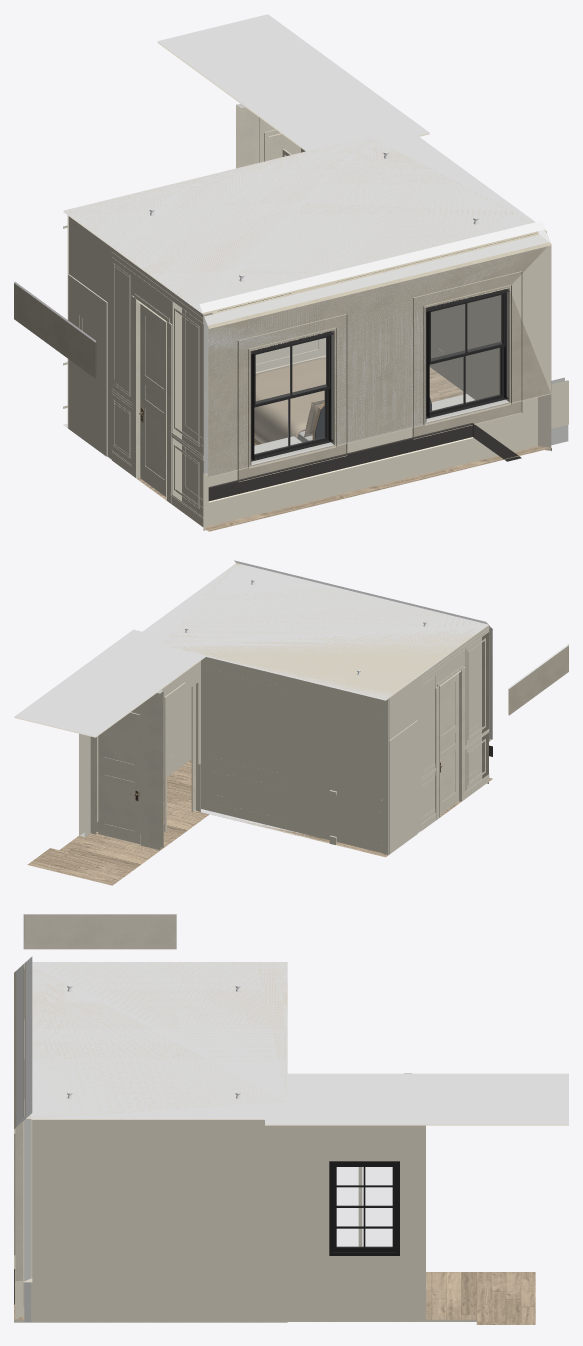
File: blue-bedroom-dcb409ba1715.glb
3 views of the same model, one above another, from view 1: azimuth 30°, elevation 25°; view 2: azimuth 150°, elevation 25°; view 3: azimuth 270°, elevation 25° (orthographic). The views are drawn at different scales.
Parts seen in each view (by area): view 1: blue-bedroom-9d91b47435c6fb33, blue-bedroom-bddaf205afbd60c0, blue-bedroom-e8793759323e04f0, blue-bedroom-look-9d91b47435c6fb33, blue-bedroom-df3e1f21720b0c39, blue-bedroom-2f7d8eff34a2c180, blue-bedroom-ed5fdcd3ee9c0dd5, blue-bedroom-3c3de67e8dd93323, blue-bedroom-649b3532e9781727, blue-bedroom-64753ebcb3824a84, blue-bedroom-746250f96522f643, blue-bedroom-ead09a0b3f9e3bd9 (+16 smaller); view 2: blue-bedroom-6e269356ae8bfd70, blue-bedroom-9d91b47435c6fb33, blue-bedroom-e8793759323e04f0, blue-bedroom-look-9d91b47435c6fb33, blue-bedroom-ed5fdcd3ee9c0dd5, blue-bedroom-look-2575515a05775d9e, blue-bedroom-look-dcc0092055abeaa8, blue-bedroom-look-eb02897c2e79e2b1, blue-bedroom-ead09a0b3f9e3bd9, blue-bedroom-3e649b0d114ae387, blue-bedroom-bf159a19de53e60e, blue-bedroom-746250f96522f643 (+13 smaller); view 3: blue-bedroom-746250f96522f643, blue-bedroom-9d91b47435c6fb33, blue-bedroom-look-746250f96522f643, blue-bedroom-e8793759323e04f0, blue-bedroom-look-9d91b47435c6fb33, blue-bedroom-look-5035c6783c6505b3, blue-bedroom-look-2575515a05775d9e, blue-bedroom-look-3a4d9d62ecd7be1c, blue-bedroom-0a6e1f8a567f4490, blue-bedroom-64753ebcb3824a84, blue-bedroom-2575515a05775d9e, blue-bedroom-49f6d498b24b79cd.
Boxes of the visible parts, x1,y1,x2,y2 form: blue-bedroom-9d91b47435c6fb33: [63, 127, 538, 314]; blue-bedroom-bddaf205afbd60c0: [207, 242, 550, 476]; blue-bedroom-e8793759323e04f0: [64, 138, 545, 312]; blue-bedroom-look-9d91b47435c6fb33: [157, 14, 429, 151]; blue-bedroom-df3e1f21720b0c39: [208, 243, 551, 475]; blue-bedroom-2f7d8eff34a2c180: [203, 393, 551, 530]; blue-bedroom-ed5fdcd3ee9c0dd5: [67, 215, 181, 500]; blue-bedroom-3c3de67e8dd93323: [251, 330, 333, 461]; blue-bedroom-649b3532e9781727: [426, 289, 509, 418]; blue-bedroom-64753ebcb3824a84: [204, 234, 548, 476]; blue-bedroom-746250f96522f643: [398, 234, 532, 399]; blue-bedroom-ead09a0b3f9e3bd9: [68, 274, 107, 456]; blue-bedroom-6e269356ae8bfd70: [200, 656, 389, 855]; blue-bedroom-9d91b47435c6fb33: [134, 564, 488, 700]; blue-bedroom-e8793759323e04f0: [161, 560, 488, 698]; blue-bedroom-look-9d91b47435c6fb33: [14, 629, 205, 737]; blue-bedroom-ed5fdcd3ee9c0dd5: [382, 641, 465, 854]; blue-bedroom-look-2575515a05775d9e: [27, 803, 209, 885]; blue-bedroom-look-dcc0092055abeaa8: [98, 712, 140, 844]; blue-bedroom-look-eb02897c2e79e2b1: [90, 690, 163, 850]; blue-bedroom-ead09a0b3f9e3bd9: [389, 720, 417, 854]; blue-bedroom-3e649b0d114ae387: [465, 625, 488, 790]; blue-bedroom-bf159a19de53e60e: [440, 673, 458, 814]; blue-bedroom-746250f96522f643: [161, 672, 191, 779]; blue-bedroom-746250f96522f643: [32, 1119, 287, 1319]; blue-bedroom-9d91b47435c6fb33: [24, 962, 287, 1119]; blue-bedroom-look-746250f96522f643: [287, 1125, 425, 1319]; blue-bedroom-e8793759323e04f0: [25, 956, 287, 1118]; blue-bedroom-look-9d91b47435c6fb33: [265, 1073, 568, 1125]; blue-bedroom-look-5035c6783c6505b3: [329, 1161, 399, 1255]; blue-bedroom-look-2575515a05775d9e: [287, 1272, 535, 1324]; blue-bedroom-look-3a4d9d62ecd7be1c: [23, 914, 176, 949]; blue-bedroom-0a6e1f8a567f4490: [15, 1121, 22, 1281]; blue-bedroom-64753ebcb3824a84: [16, 964, 23, 1126]; blue-bedroom-2575515a05775d9e: [14, 1269, 287, 1322]; blue-bedroom-49f6d498b24b79cd: [24, 1118, 30, 1281].
Bounding box in the file's own units: 6.73 × 3.04 × 7.3.
Materials: 36 (9 with a texture image).
